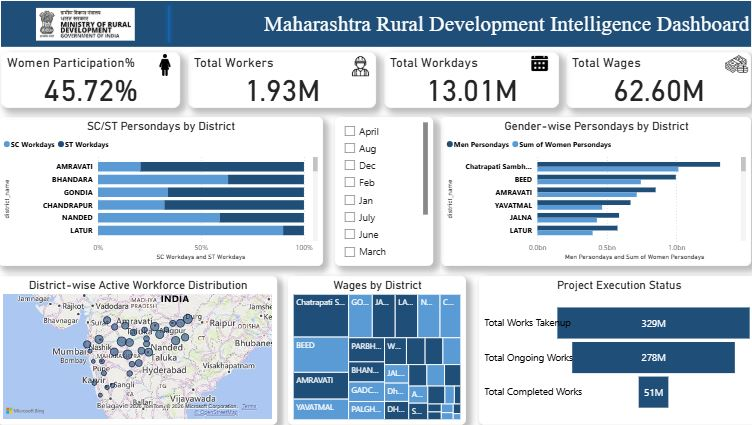

This screenshot's page, from the dashboard's own definition file:
{"tool":"powerbi","page":{"name":"Page 1","canvas":[1280,720],"ordinal":0},"visuals":[{"type":"card","title":"Women Participation%","fields":{"Values":["project2.Women Participation %"]},"box":[8.4,94.1,300.7,94.1],"z":0,"group":"g1"},{"type":"card","title":"Total Wages","fields":{"Values":["project2.Total Wages"]},"box":[957.5,94.1,310.8,94.1],"z":0},{"type":"card","title":"Total Workdays","fields":{"Values":["project2.Total Wages"]},"box":[651.8,94.1,294,94.1],"z":1000},{"type":"card","title":"Total Workers","fields":{"Values":["project2.Total Workers"]},"box":[322.5,94.1,315.8,94.1],"z":2000},{"type":"map","title":"District-wise Active Workforce Distribution","fields":{"Size":["Sum(project2.Total_No_of_Active_Workers)"],"Category":["project2.district_name"]},"box":[3.4,470.3,468.7,250.3],"z":3000},{"type":"shape","box":[8.4,8.4,1259.8,77.3],"z":4000},{"type":"clusteredBarChart","title":"Gender-wise Persondays by District","fields":{"Y":["project2.Men Persondays","Sum(project2.Women Persondays)"],"Category":["project2.district_name"]},"box":[747.5,203.3,520.7,250.3],"z":5000},{"type":"hundredPercentStackedBarChart","title":"SC/ST Persondays by District","fields":{"Y":["Sum(project2.SC_persondays)","Sum(project2.ST_persondays)"],"Category":["project2.district_name"]},"box":[3.4,203.3,545.9,250.3],"z":6000},{"type":"funnel","title":"Project Execution Status","fields":{"Y":["Sum(project2.Total Works Takenup)","Sum(project2.Number_of_Ongoing_Works)","Sum(project2.Number_of_Completed_Works)"]},"box":[811.3,470.3,468.7,250.3],"z":7000},{"type":"treemap","title":"Wages by District","fields":{"Group":["project2.district_name"],"Values":["Sum(project2.Wages)"]},"box":[490.5,470.3,299,250.3],"z":8000},{"type":"slicer","title":"Months","fields":{"Values":["project2.month"]},"box":[569.4,203.3,164.6,250.3],"z":9000},{"type":"image","box":[62.2,0,176.4,94.1],"z":10000},{"type":"shape","box":[141.1,8.4,299,77.3],"z":11000},{"type":"image","box":[893.6,58.8,38.6,109.2],"z":12000},{"type":"image","box":[249.6,92.3,67.2,47],"z":12001,"group":"g1"},{"type":"image","box":[586.2,95.7,52.1,43.7],"z":13000},{"type":"image","box":[1219.5,85.7,48.7,57.1],"z":14000},{"type":"group","id":"g1","title":"Group 1","box":[8.4,92.3,308.4,95.9],"z":15000}]}

Visuals, with their boxes in screenshot pixels (x1, y1, x2, y2), scaled from the page's 1280x720 canvas onto the 752x425 screenshot:
"Women Participation%" card: 5/56/182/111
"Total Wages" card: 563/56/745/111
"Total Workdays" card: 383/56/556/111
"Total Workers" card: 189/56/375/111
"District-wise Active Workforce Distribution" map: 2/278/277/424
shape: 5/5/745/51
"Gender-wise Persondays by District" clusteredBarChart: 439/120/745/268
"SC/ST Persondays by District" hundredPercentStackedBarChart: 2/120/323/268
"Project Execution Status" funnel: 477/278/751/424
"Wages by District" treemap: 288/278/464/424
"Months" slicer: 335/120/431/268
image: 37/0/140/56
shape: 83/5/259/51
image: 525/35/548/99
image: 147/54/186/82
image: 344/56/375/82
image: 716/51/745/84
"Group 1" group: 5/54/186/111
